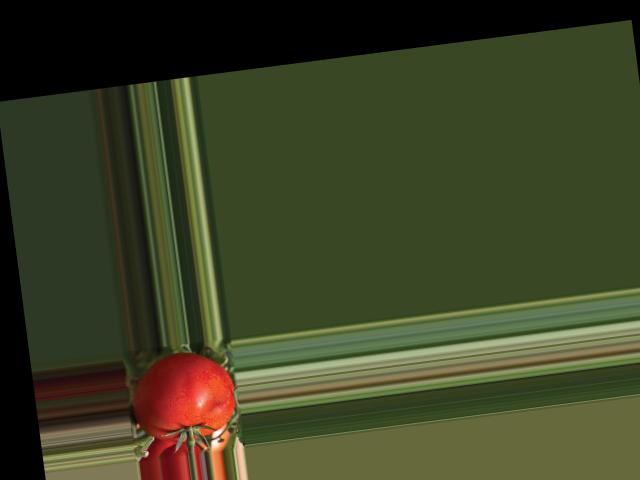tomato: (128, 347, 240, 446)
